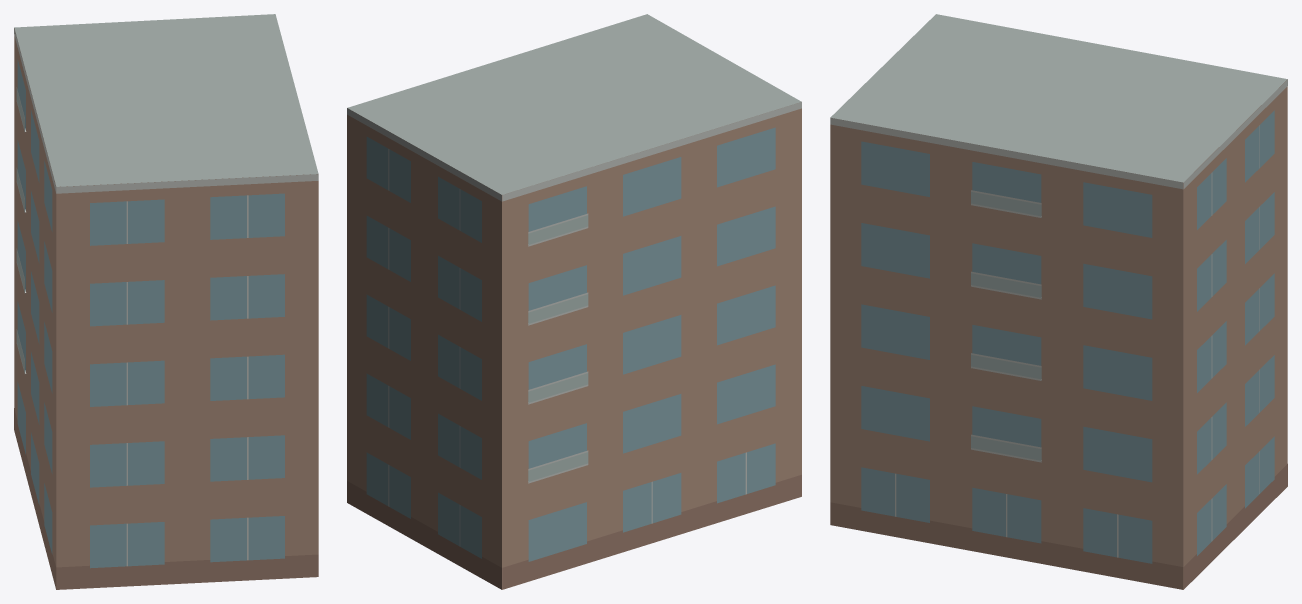
The model's file is survey-upis-33013504.glb.
3 views of the same model, side by side, from view 1: azimuth 30°, elevation 25°; view 2: azimuth 150°, elevation 25°; view 3: azimuth 270°, elevation 25° (orthographic). The views are drawn at different scales.
Parts seen in each view (by area): view 1: survey-upis-33013504.tmp; view 2: survey-upis-33013504.tmp; view 3: survey-upis-33013504.tmp.
Part boxes in pixels (x1,y1,x2,y2): survey-upis-33013504.tmp: (14, 14, 318, 589); survey-upis-33013504.tmp: (347, 14, 801, 589); survey-upis-33013504.tmp: (830, 14, 1287, 589).
Bounding box in the file's own units: 12.83 × 14.45 × 14.72.
